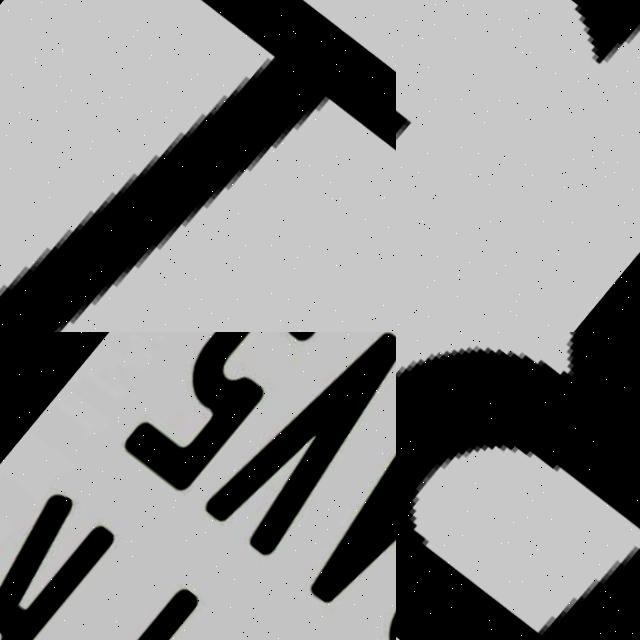1: (0, 0, 396, 332)
3: (396, 0, 640, 332)
5: (113, 332, 344, 500)
A: (281, 367, 396, 627)
P: (0, 550, 212, 640)
R: (396, 332, 640, 640), (0, 480, 128, 640)
V: (198, 332, 396, 563)
